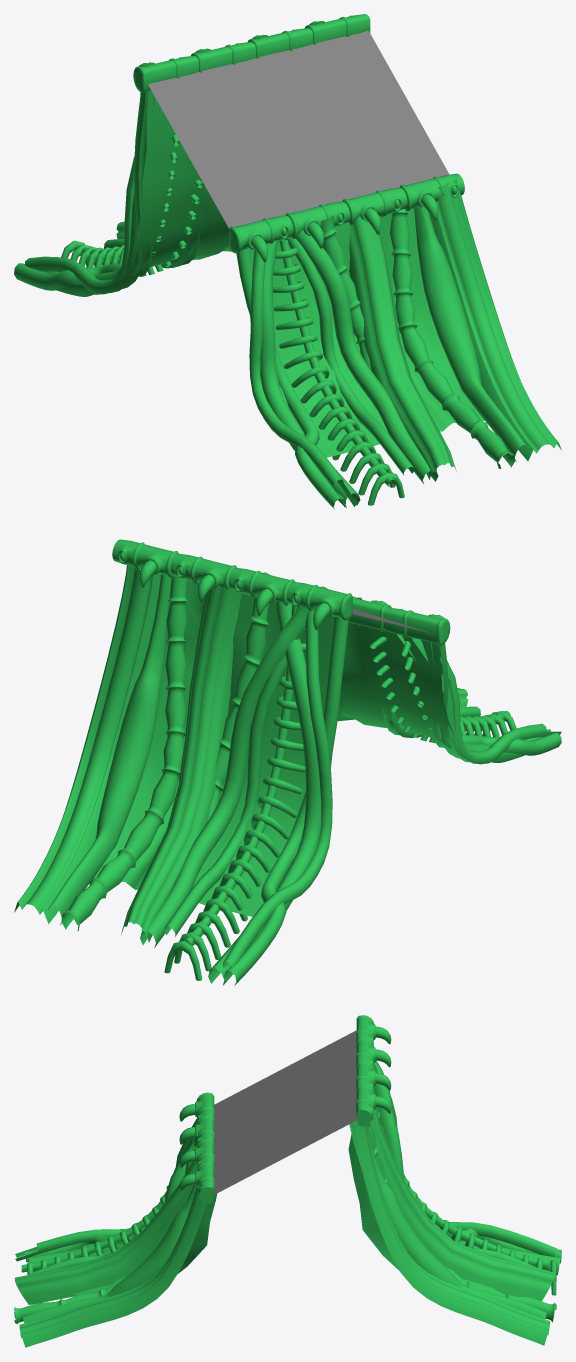
File: Track_alien_10.fbx
3 views of the same model, one above another, from view 1: azimuth 30°, elevation 25°; view 2: azimuth 150°, elevation 25°; view 3: azimuth 270°, elevation 25° (orthographic). The views are drawn at different scales.
Parts seen in each view (by area): view 1: Object003, Road_010; view 2: Object003; view 3: Object003, Road_010.
Boxes of the visible parts, bbox=[...] form: Object003: bbox=[14, 14, 561, 509]; Road_010: bbox=[148, 30, 449, 228]; Object003: bbox=[14, 539, 561, 985]; Object003: bbox=[14, 1015, 561, 1347]; Road_010: bbox=[213, 1030, 357, 1195].
Size of what is drawn, in the model's own units: 3340 by 7697 by 3928.
